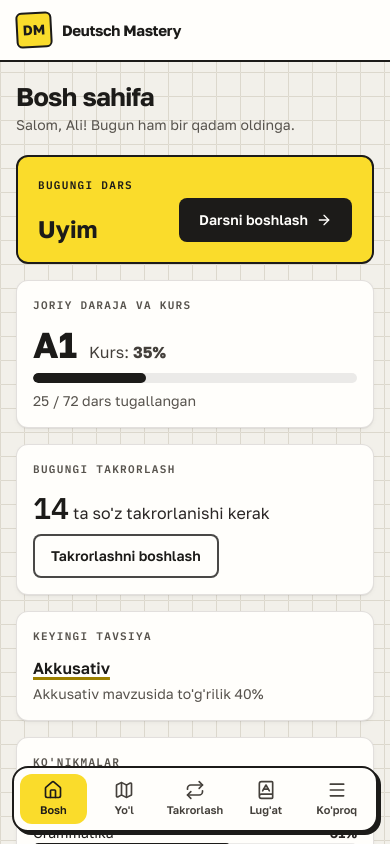
Test case: navigation and guards › has a mobile bottom tab bar with a "Ko'proq" menu
Check: the link "Bosh" is shown, box [20, 774, 87, 824]
Check: the link "Yo'l" is shown, box [114, 780, 134, 816]
What coordinates should you click on to do the following:
click the button "Ko'proq"
I would click on:
 (337, 799)
Its box is [303, 774, 370, 824].
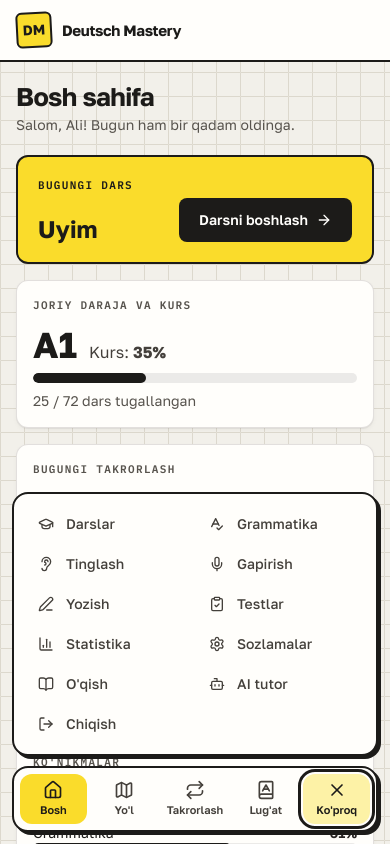
Check: the button "Ko'proq" is expanded, box [303, 774, 370, 824]
Check: the link "AI tutor" is shown, box [209, 675, 288, 692]
Check: the link "Grammatika" is shown, box [209, 515, 318, 532]
